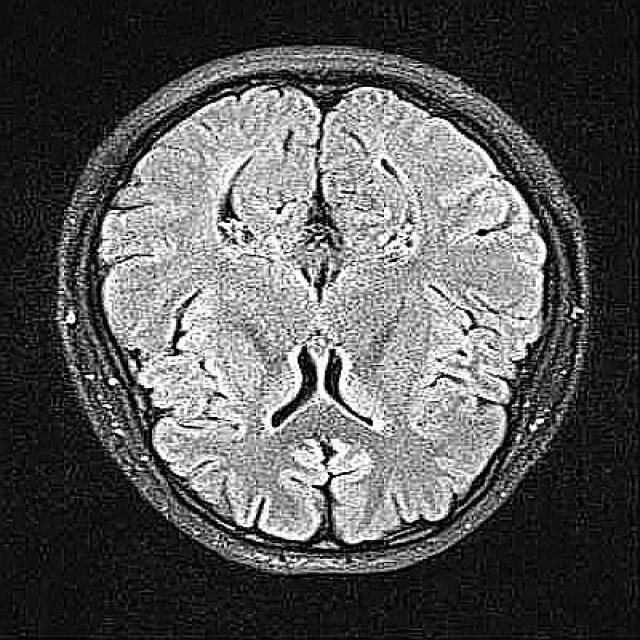notumor: (54, 46, 590, 578)
